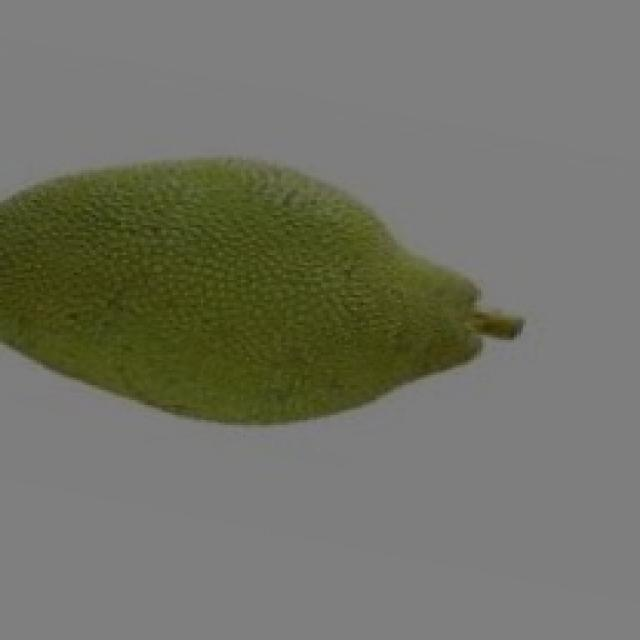Fruit: (3, 132, 422, 450)
